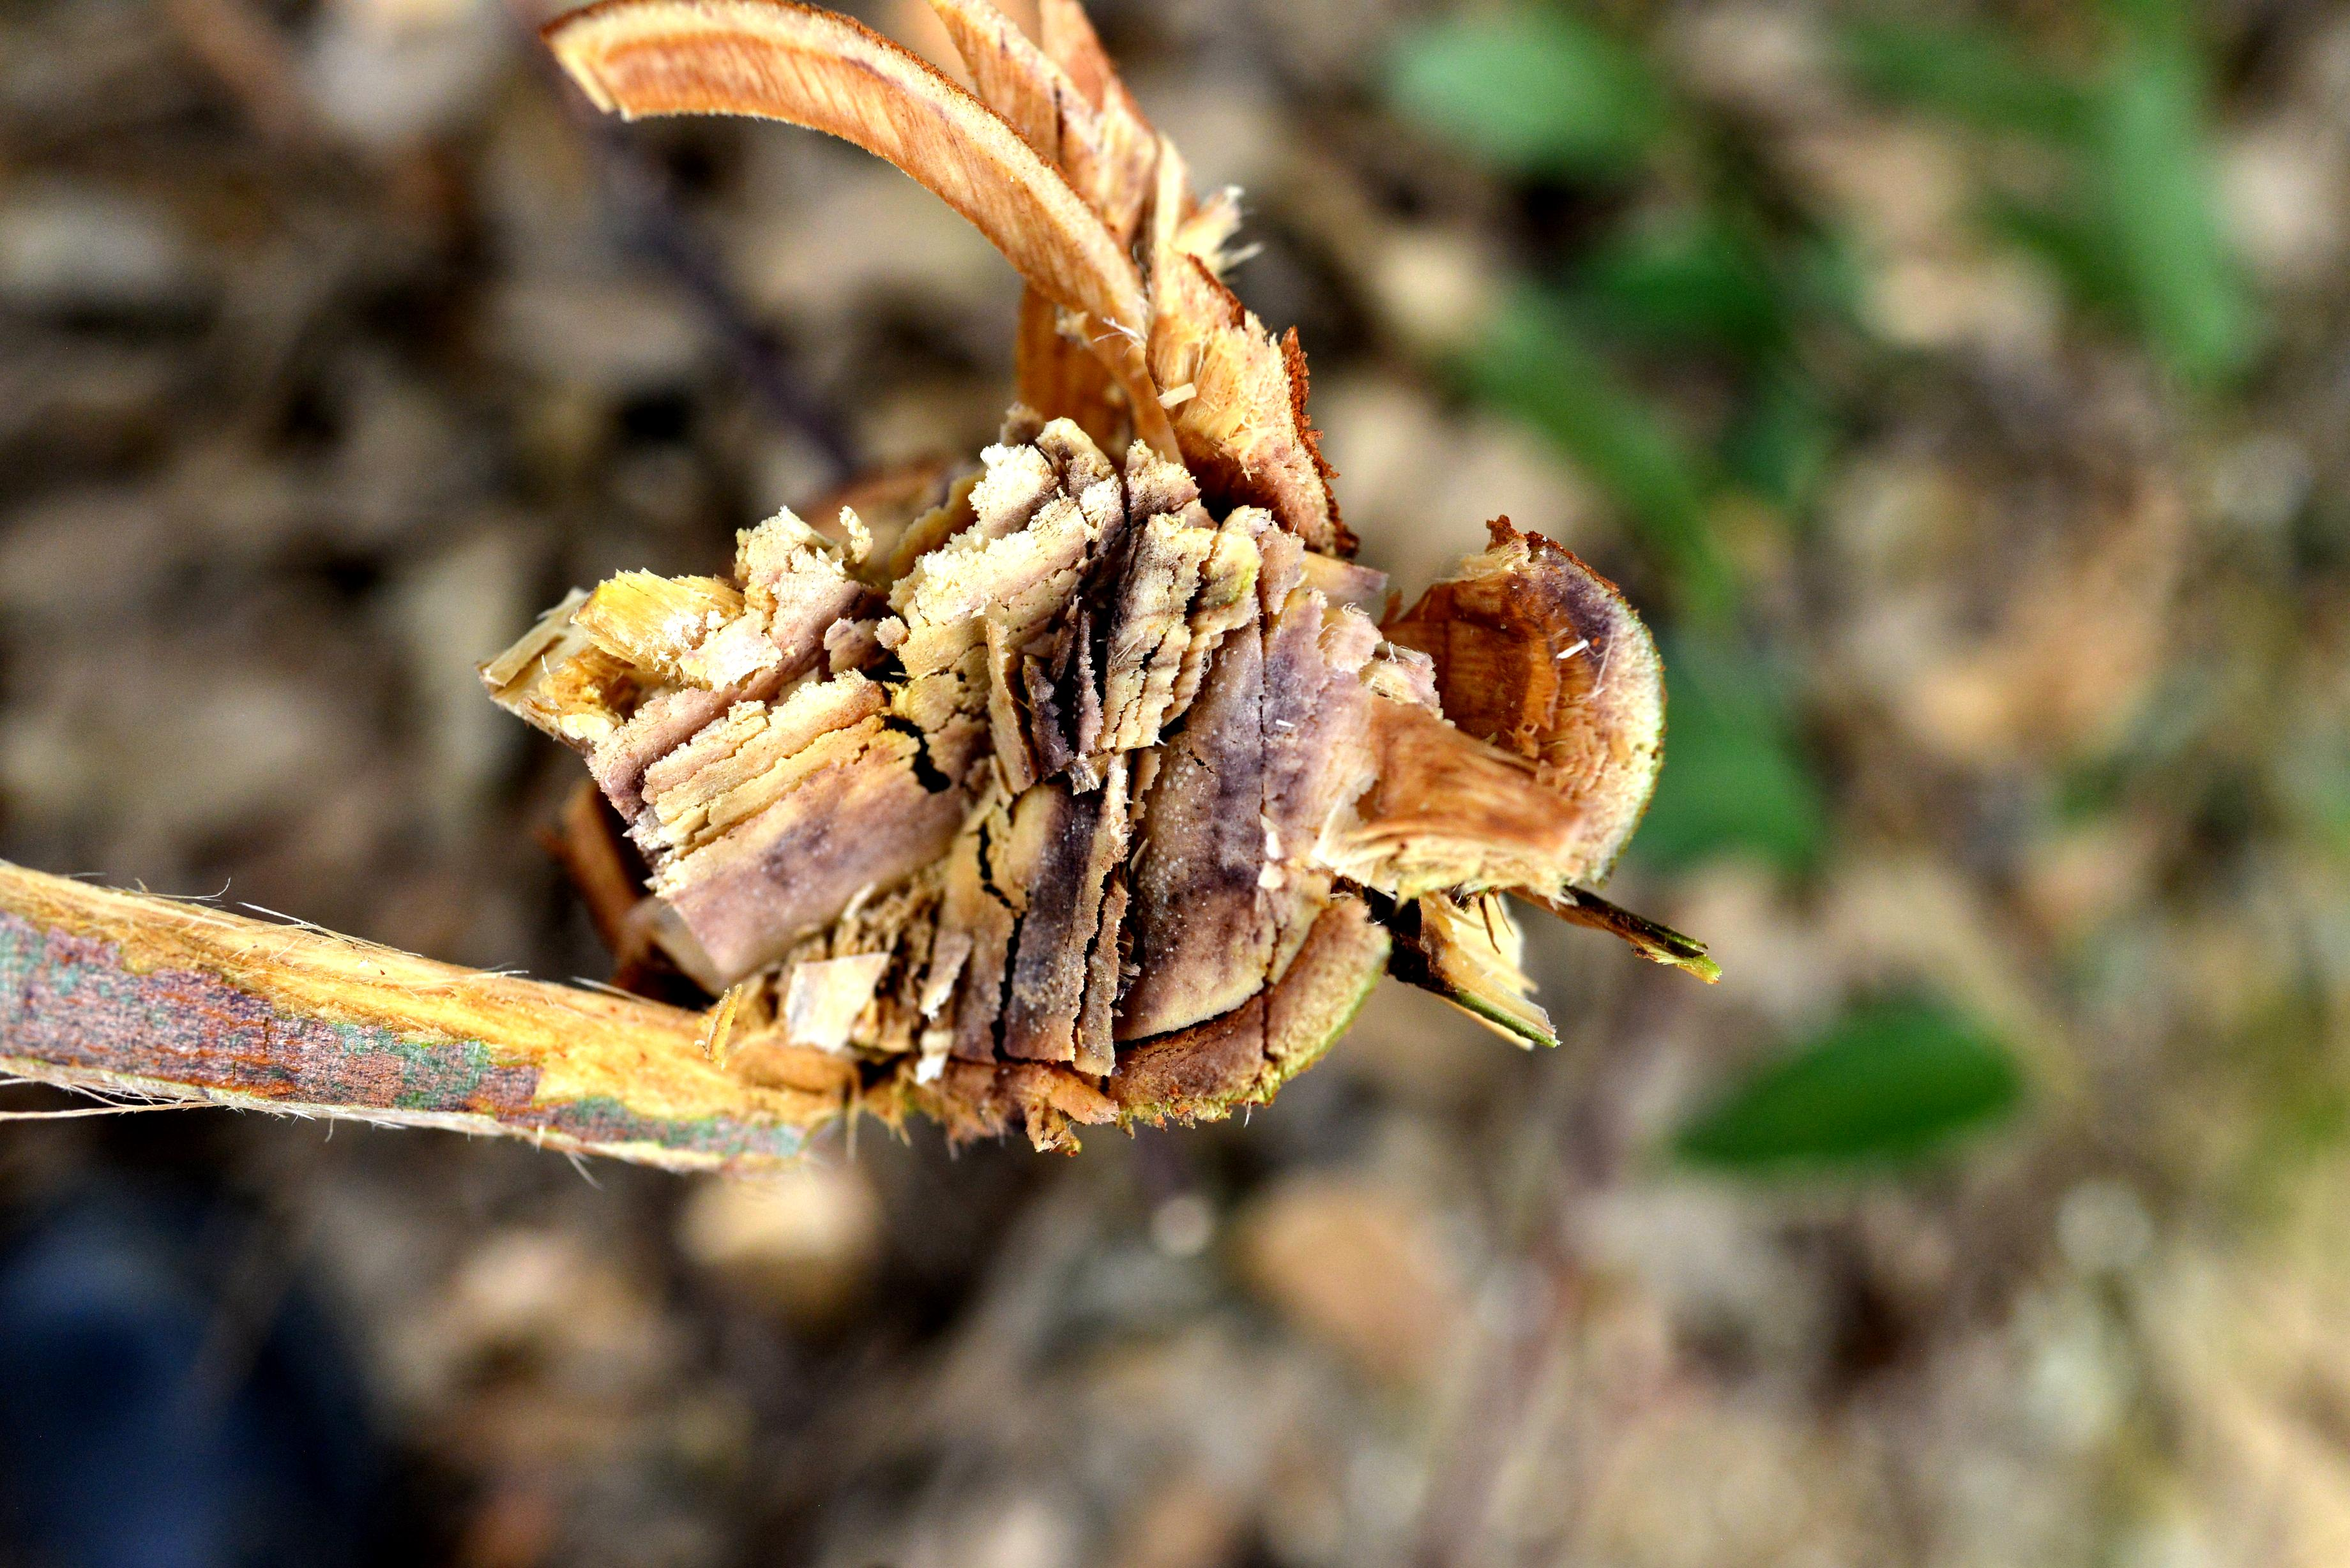Ralstonia: (1136, 749, 1207, 968)
